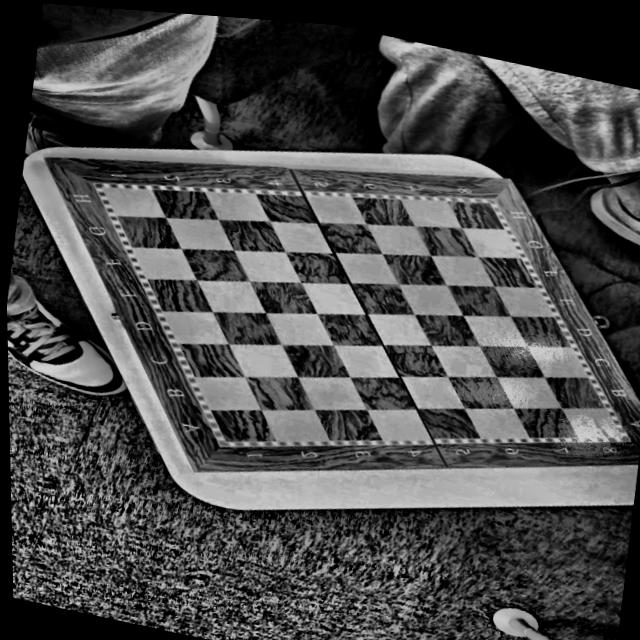chessboard: (90, 181, 633, 446)
p1: (222, 432, 234, 442)
p2: (612, 429, 622, 439)
p3: (477, 198, 492, 211)
p4: (99, 184, 115, 192)
